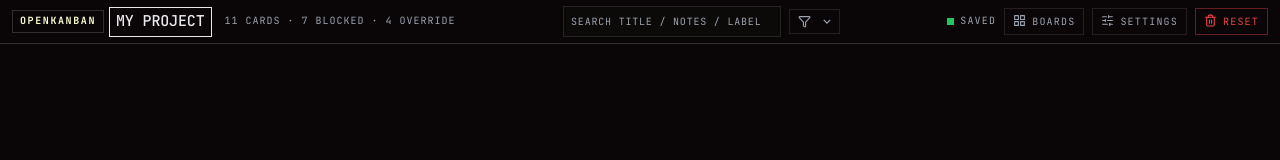
Test: TopBar — the board title is an in-place rename control › typing a new name and pressing Enter commits it to storage
Press Enter
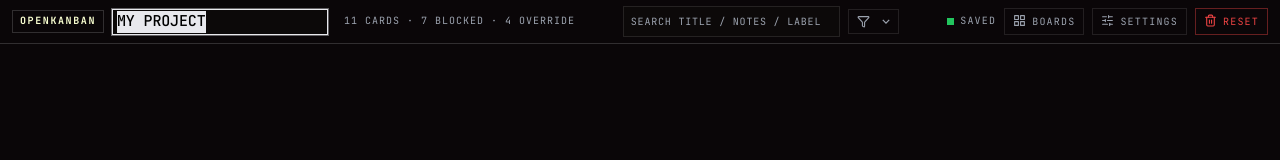
Replace the text in the field named "Board name" with "shipping plan": (220, 22) [112,9,328,35]
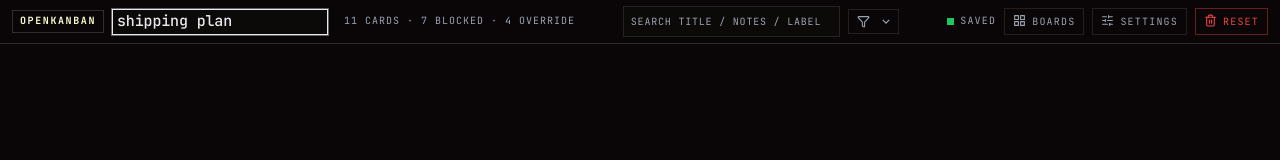
Press Enter
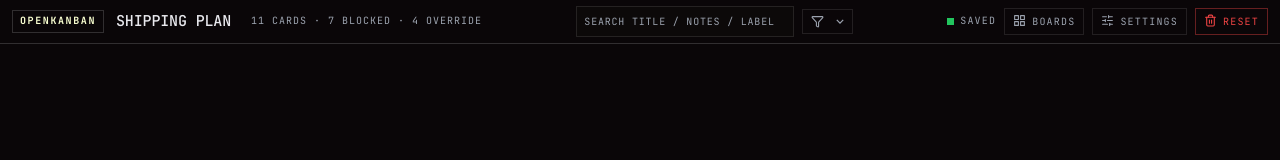
Expected: the button "SHIPPING PLAN" is shown, [112,10,235,34]
